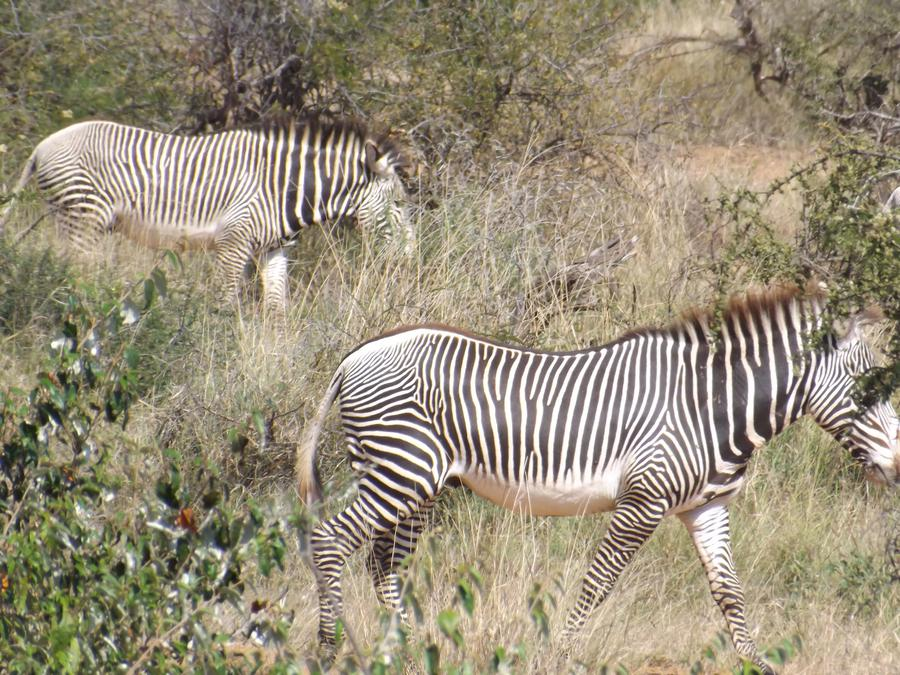zebra_grevys: (332, 311, 708, 504), (30, 100, 275, 253)
